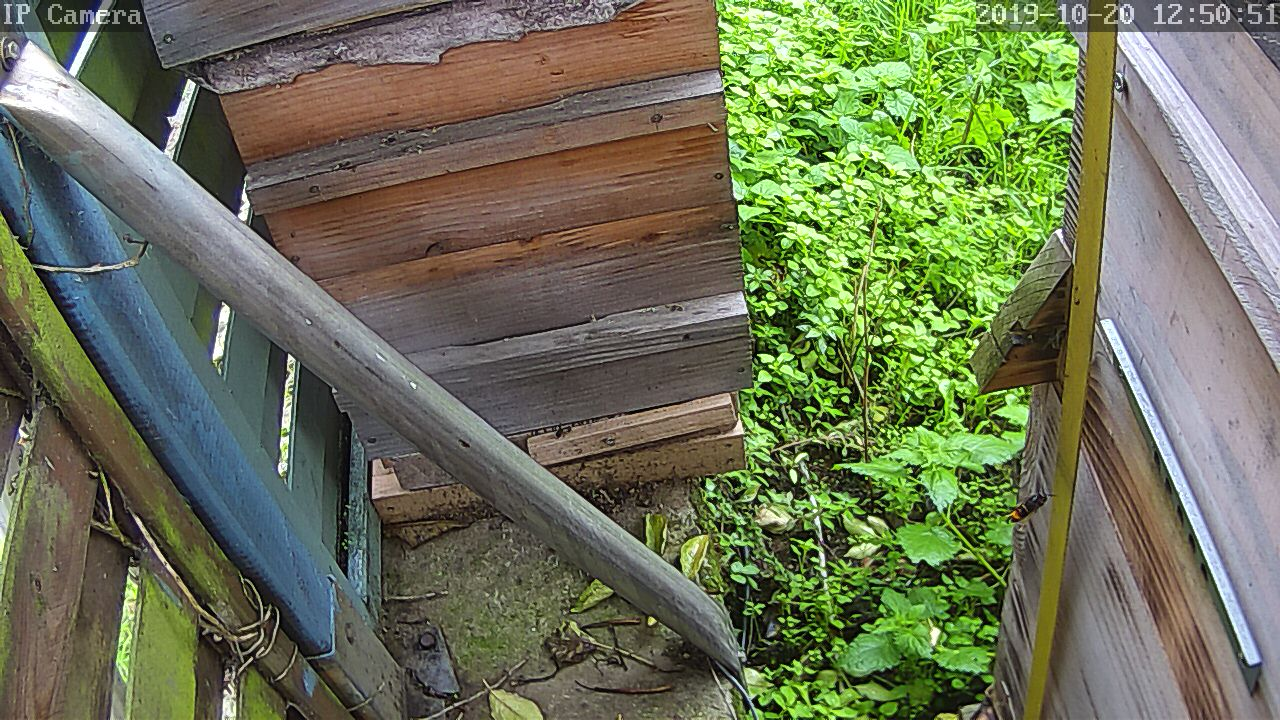hornet: (999, 481, 1048, 533)
